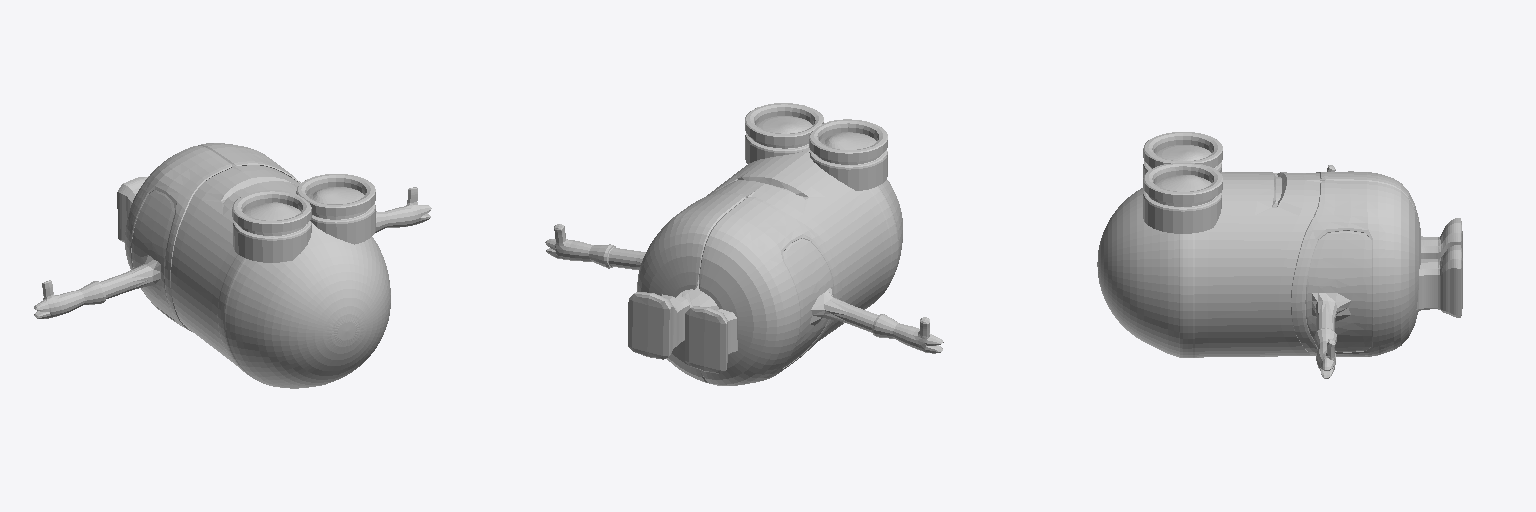
Rendered from minion.obj.
3 renders of one model, left to right at view 1: azimuth 30°, elevation 25°; view 2: azimuth 150°, elevation 25°; view 3: azimuth 270°, elevation 25°, orthographic.
Visible parts, largest first — view 1: Mesh Mesh; view 2: Mesh Mesh; view 3: Mesh Mesh.
Part boxes in pixels (x1,y1,x2,y2): Mesh Mesh: (34,143,431,388); Mesh Mesh: (545,103,943,385); Mesh Mesh: (1097,132,1462,378).
Bounding box in the file's own units: 6.25 × 2.83 × 4.99.